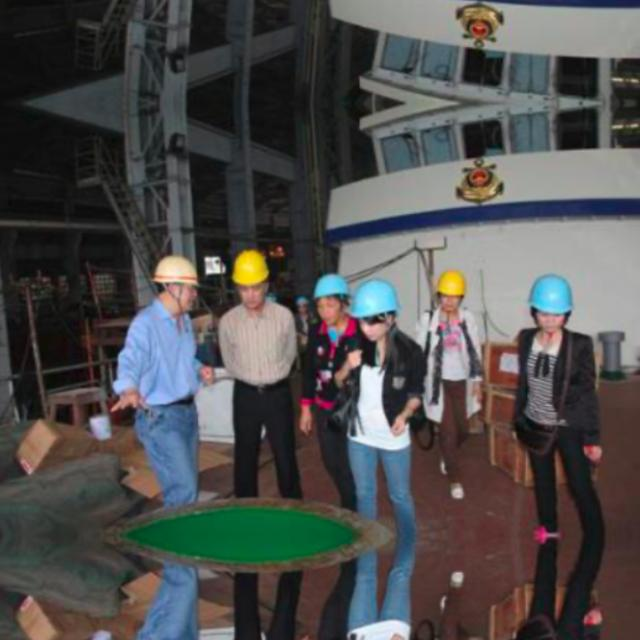safetyhelmet: (351, 280, 399, 318), (529, 275, 573, 314), (232, 250, 269, 285), (153, 256, 197, 285), (314, 274, 350, 299), (438, 270, 466, 296), (296, 296, 308, 307)
